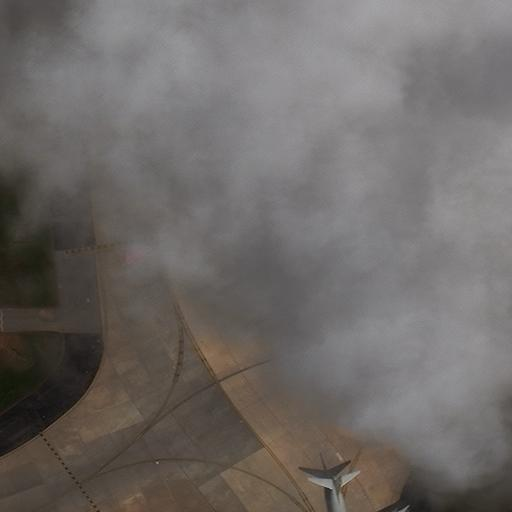Large Civil Transport: (302, 473, 411, 512)
